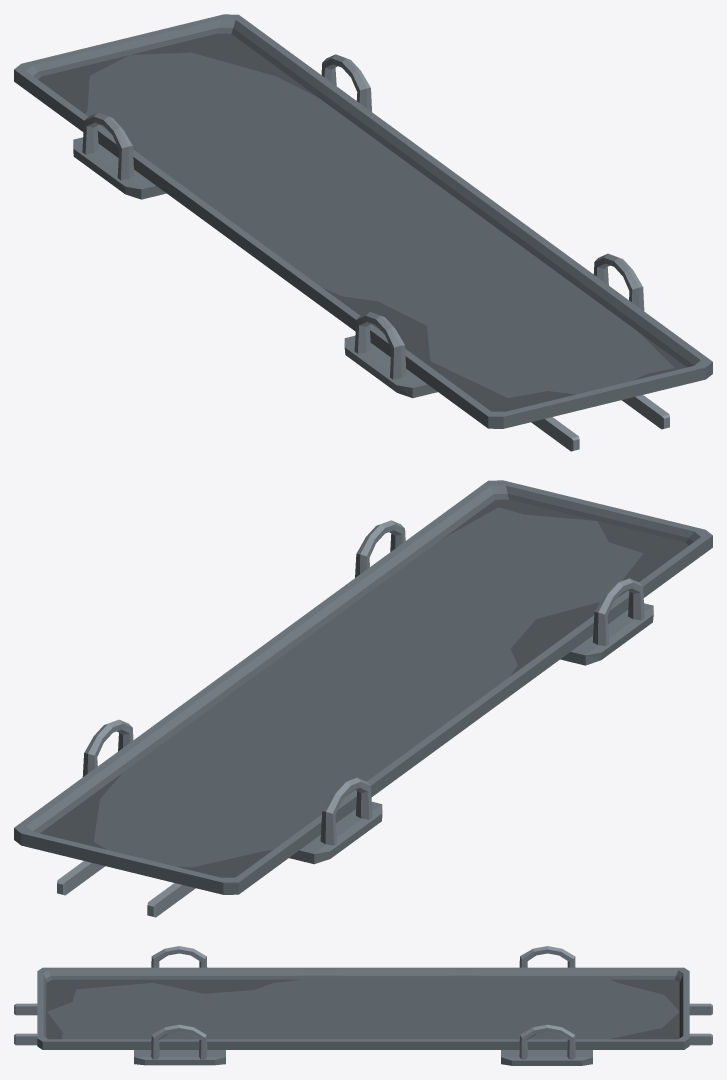
Rendered from SM_Prop_Furnace_Tray_01.fbx.
3 views of the same model, one above another, from view 1: azimuth 30°, elevation 25°; view 2: azimuth 150°, elevation 25°; view 3: azimuth 270°, elevation 25° (orthographic). The views are drawn at different scales.
Parts seen in each view (by area): view 1: SM_Prop_Furnace_Tray_01; view 2: SM_Prop_Furnace_Tray_01; view 3: SM_Prop_Furnace_Tray_01.
Boxes of the visible parts, <box> form: SM_Prop_Furnace_Tray_01: <box>14,14,712,451</box>; SM_Prop_Furnace_Tray_01: <box>14,480,712,917</box>; SM_Prop_Furnace_Tray_01: <box>14,946,712,1065</box>.
Bounding box in the file's own units: 65.17 × 15.67 × 227.
1 material, 1 textured.
